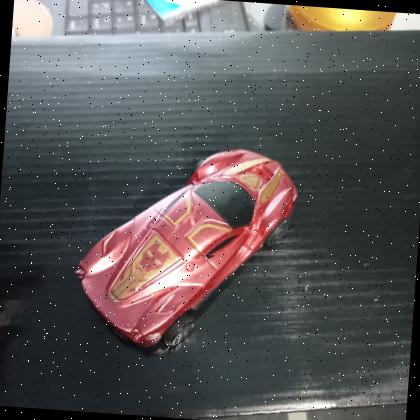Car: (66, 134, 306, 364)
